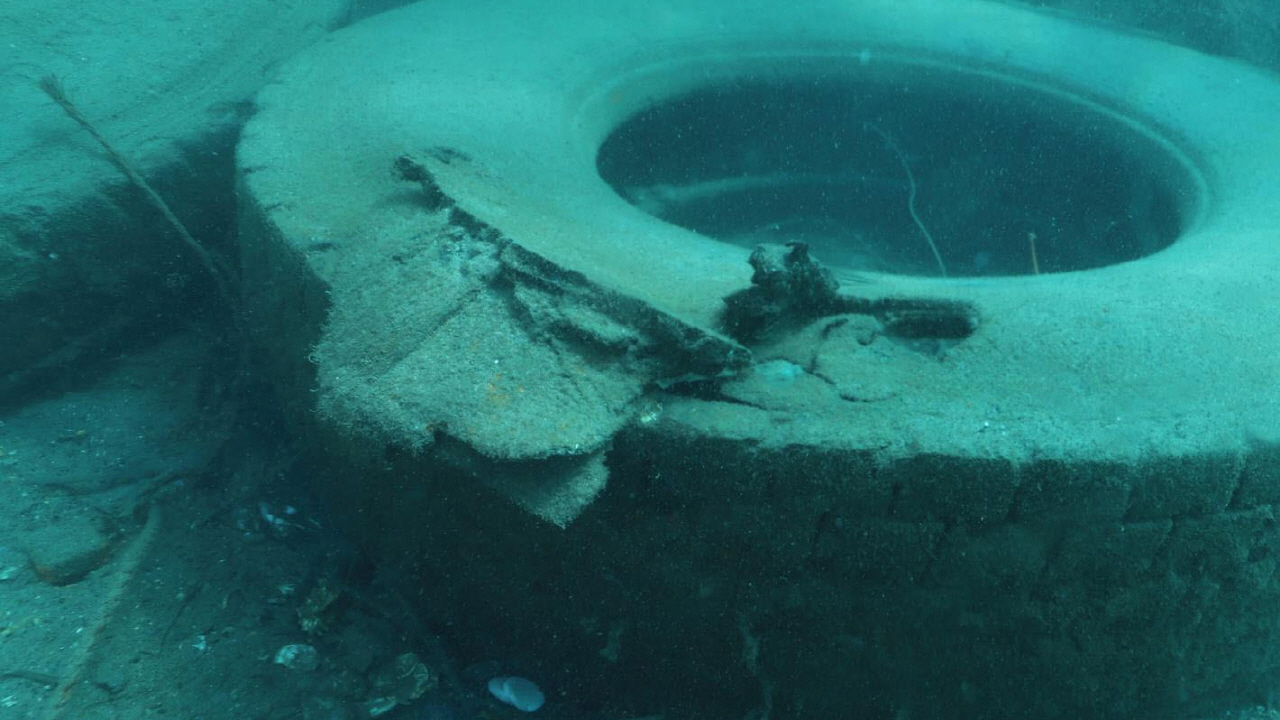tire: (239, 0, 1280, 720)
